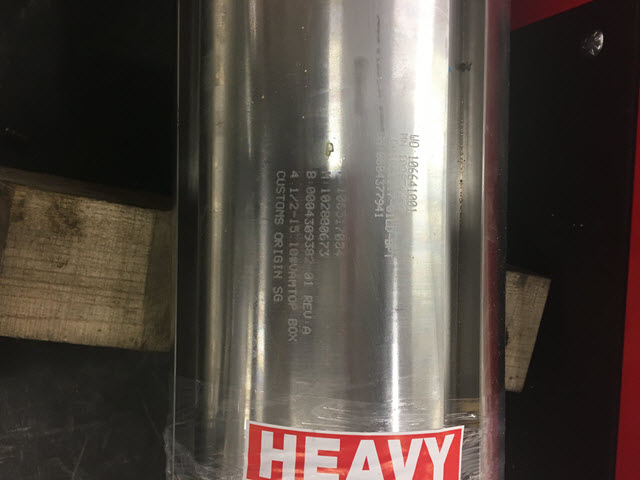character: (272, 207, 288, 218), (301, 324, 314, 337), (302, 201, 319, 210), (302, 209, 319, 218), (272, 194, 288, 203), (269, 269, 285, 278), (275, 169, 288, 180), (301, 309, 314, 320), (274, 185, 288, 195), (304, 185, 318, 195), (286, 225, 300, 235), (271, 216, 286, 225), (303, 193, 318, 202), (275, 177, 288, 187), (288, 168, 301, 178), (287, 192, 300, 202), (301, 301, 314, 311), (302, 216, 316, 225), (271, 285, 285, 294), (272, 201, 287, 209), (287, 333, 299, 343), (287, 325, 299, 335), (287, 318, 299, 328), (273, 256, 285, 266), (286, 217, 301, 225), (304, 169, 317, 178), (303, 225, 316, 234), (271, 294, 284, 303), (287, 201, 300, 210), (302, 233, 316, 241), (271, 249, 285, 257), (288, 210, 302, 218), (273, 239, 285, 248), (272, 231, 284, 240), (301, 293, 314, 301), (288, 187, 299, 194), (273, 263, 283, 270)
